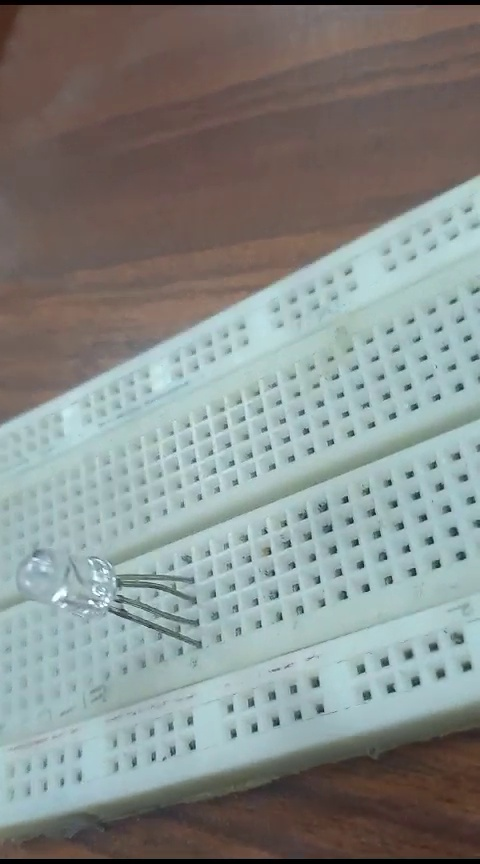LED: (11, 539, 228, 652)
